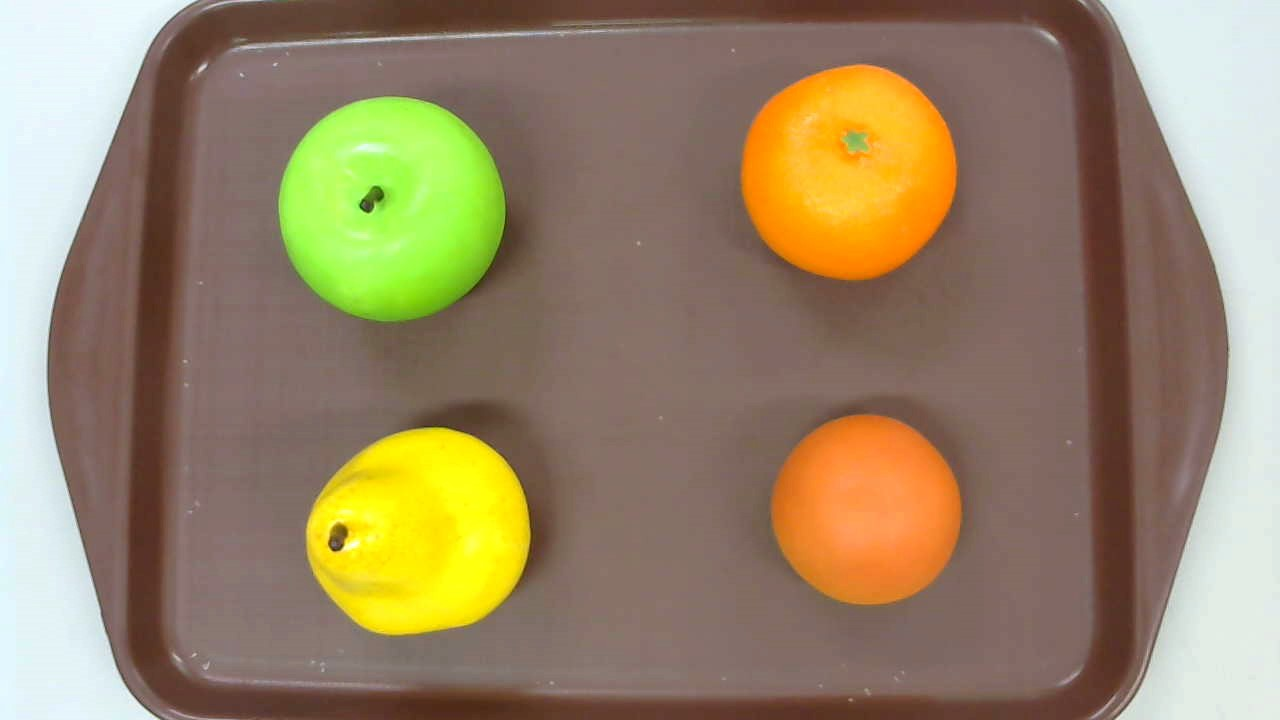bun: (771, 413, 961, 603)
green apple: (278, 97, 505, 322)
orange: (740, 63, 956, 283)
yellow pear: (305, 427, 532, 636)
